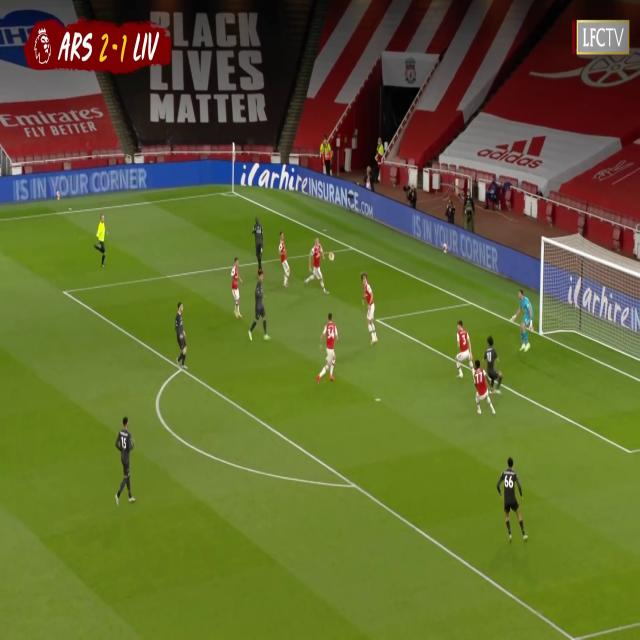Ball: (326, 248, 336, 265)
GoalKeeper: (511, 288, 536, 356)
TEAM 1: (315, 315, 337, 386), (470, 363, 498, 418), (302, 236, 329, 293), (360, 272, 377, 346), (454, 321, 474, 380), (229, 257, 244, 321), (279, 232, 293, 287)
TEAM 2: (496, 457, 528, 543), (116, 418, 136, 505), (248, 271, 270, 343), (483, 337, 503, 391), (174, 302, 190, 368), (253, 218, 266, 268)
